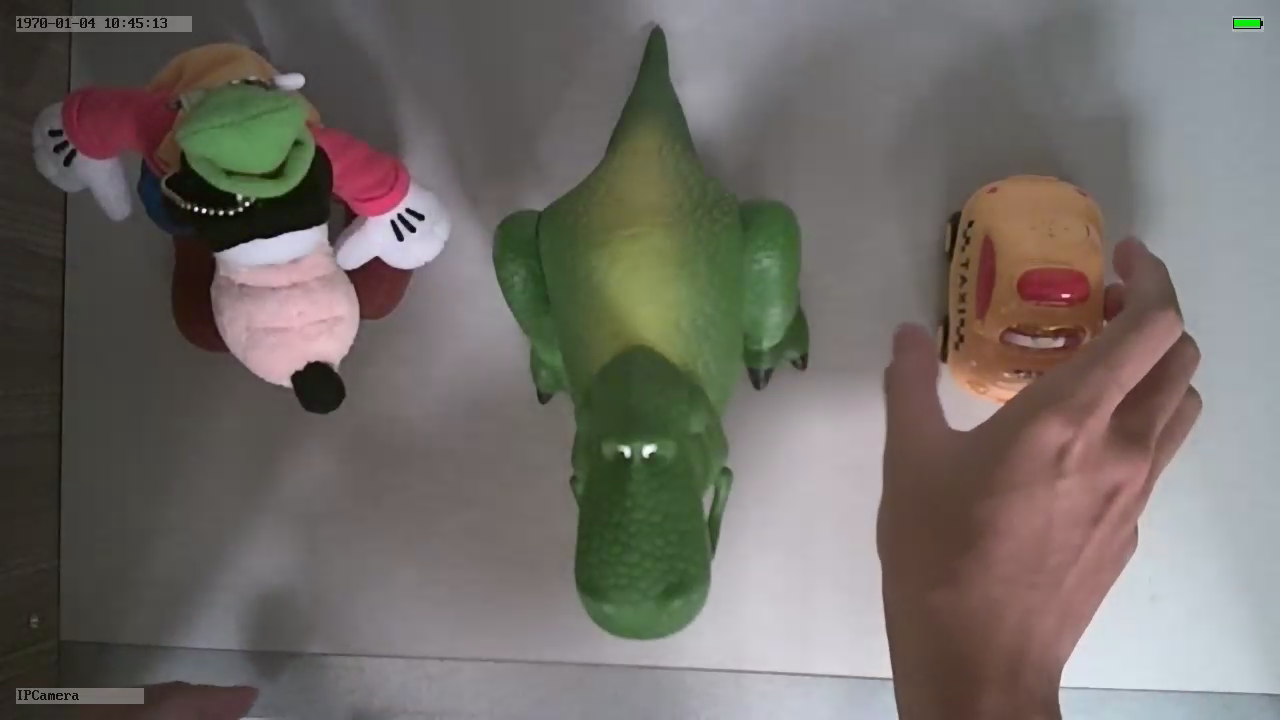goofy: (29, 41, 453, 413)
